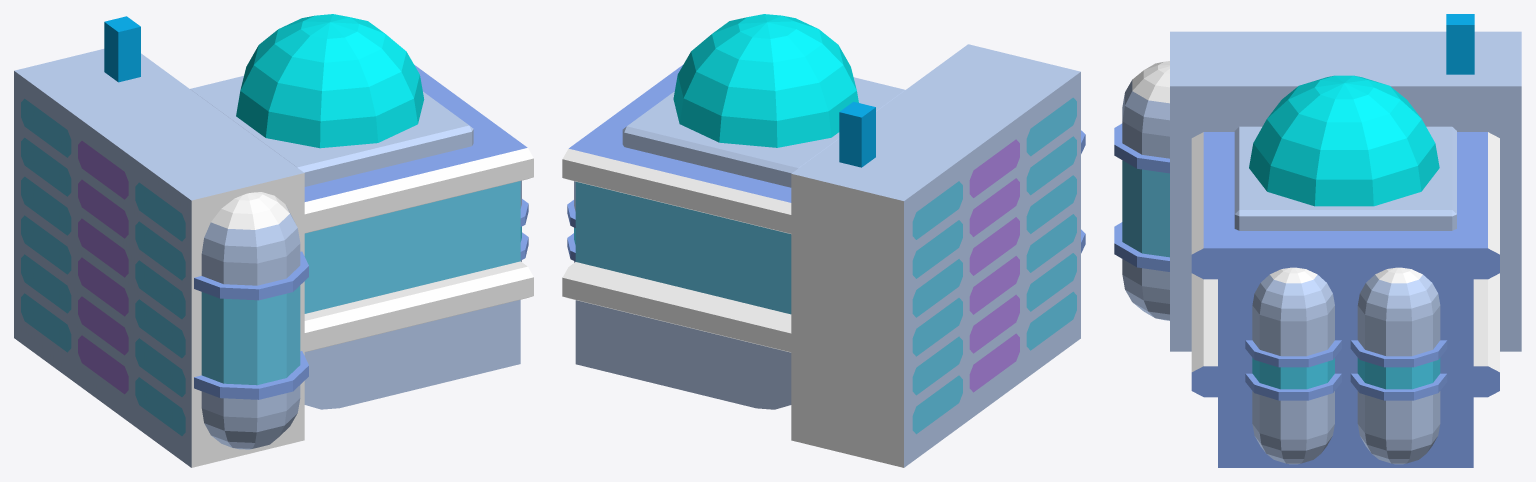
File: Building_045.fbx
The picture shows the model from 3 angles, left to right: view 1: azimuth 30°, elevation 25°; view 2: azimuth 150°, elevation 25°; view 3: azimuth 270°, elevation 25°; orthographic projection.
Visible parts, largest first — view 1: Building_045; view 2: Building_045; view 3: Building_045.
Boxes of the visible parts, box(x1,y1,x2,y2) form: Building_045: box(14, 14, 533, 467); Building_045: box(562, 14, 1085, 467); Building_045: box(1114, 14, 1521, 467).
Size of the model in its own units: 43.4 by 34.43 by 39.33.
